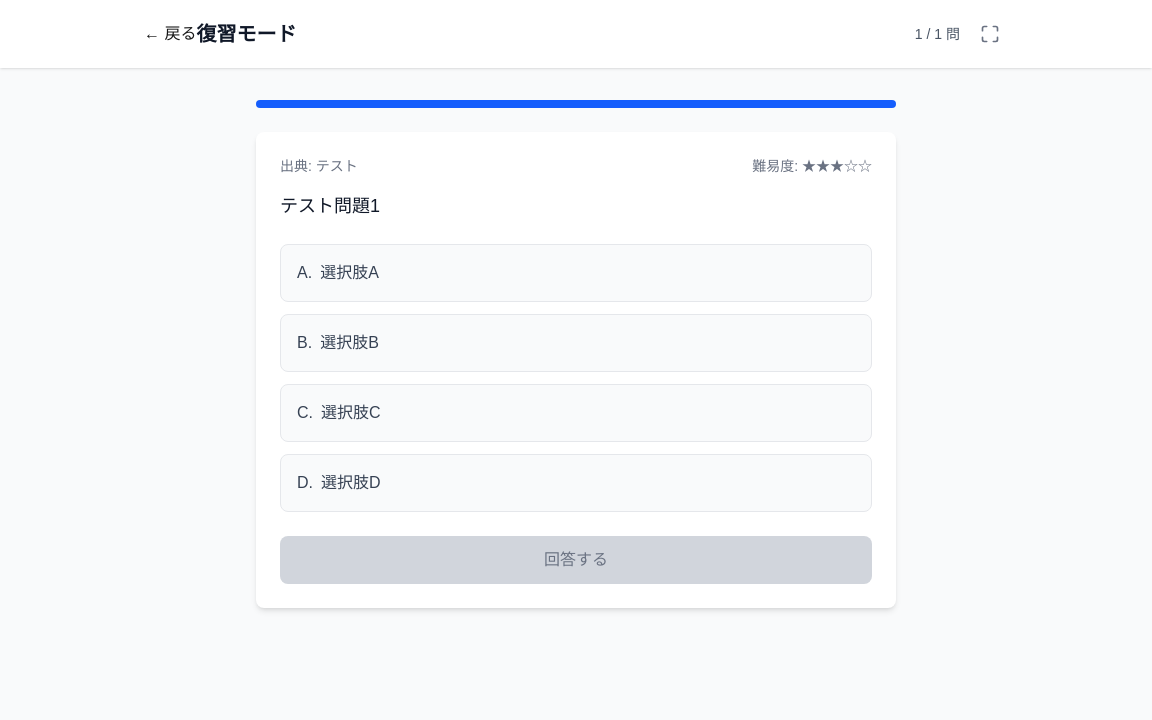
Scenario: ReviewPage › 回答処理 › userIdがなくてもローカル判定で結果が表示される
This screenshot has width=1152, height=720.
Expected: the heading "テスト問題1" is shown, left=280, top=196, right=380, bottom=216
Click the text "A.": {"x": 305, "y": 272} left=297, top=264, right=312, bottom=281
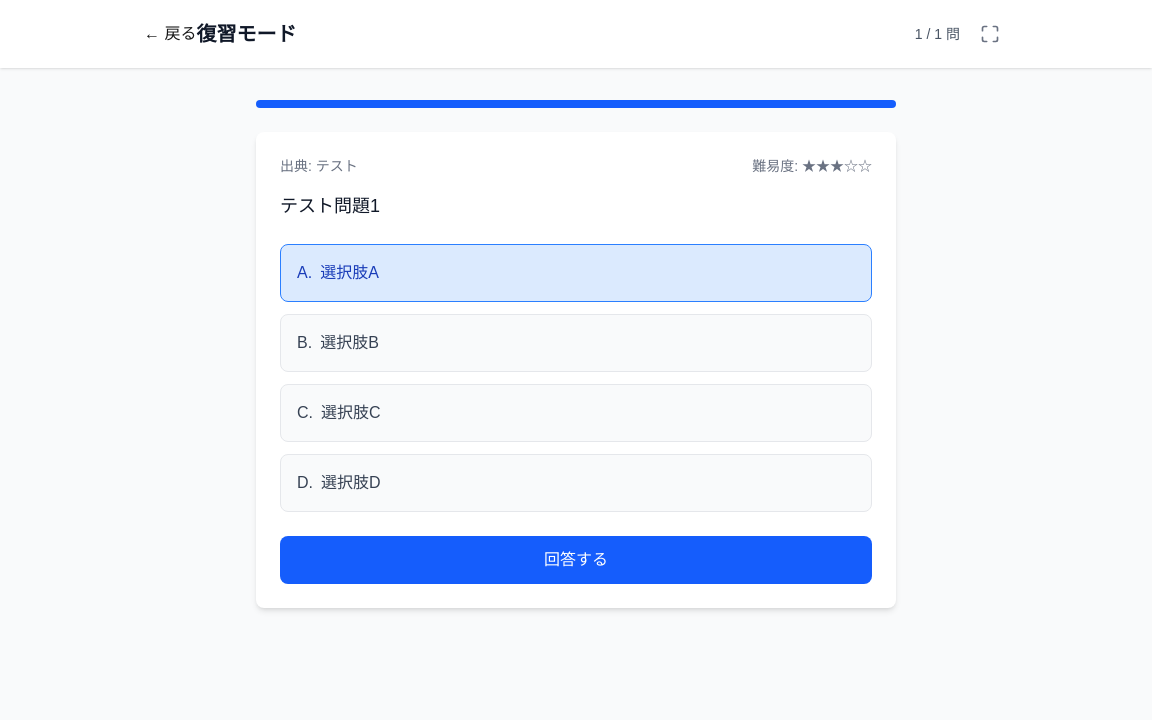
Click the button "回答する": {"x": 576, "y": 560} left=280, top=536, right=872, bottom=584
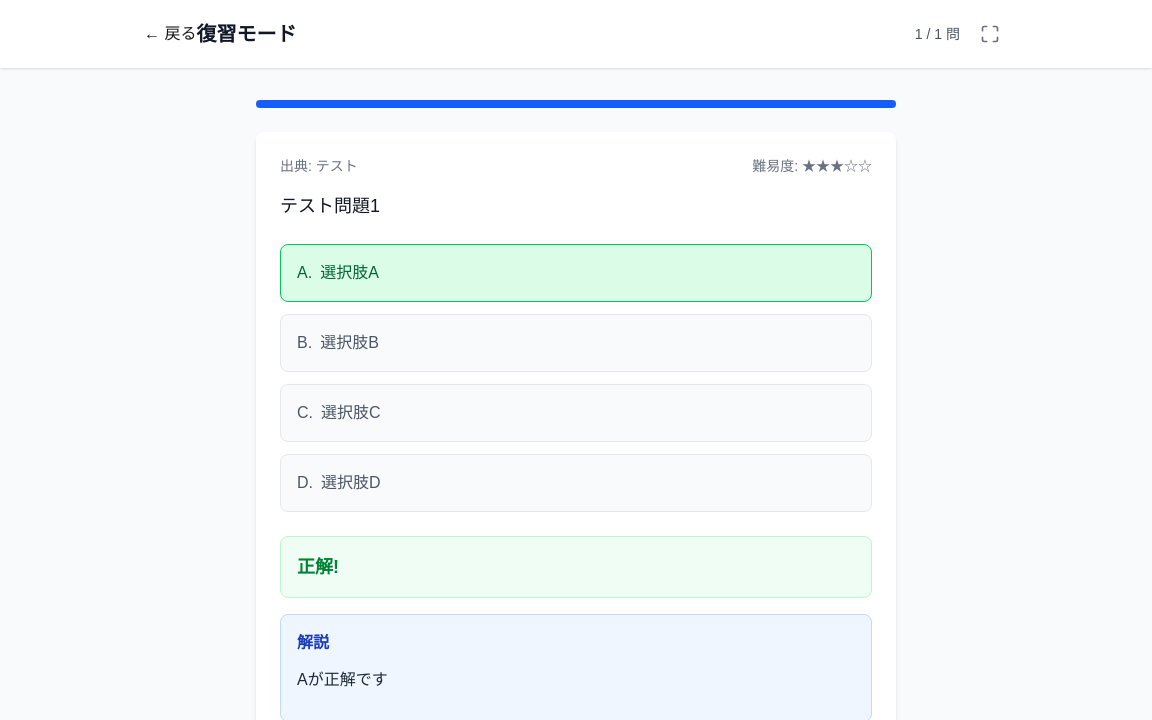
Expected: the text "正解!" is shown, left=297, top=557, right=339, bottom=577
